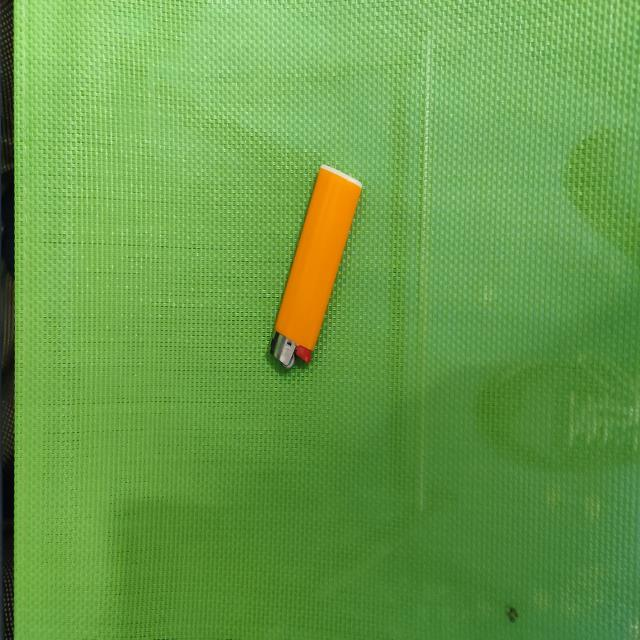lighter: (271, 166, 361, 368)
